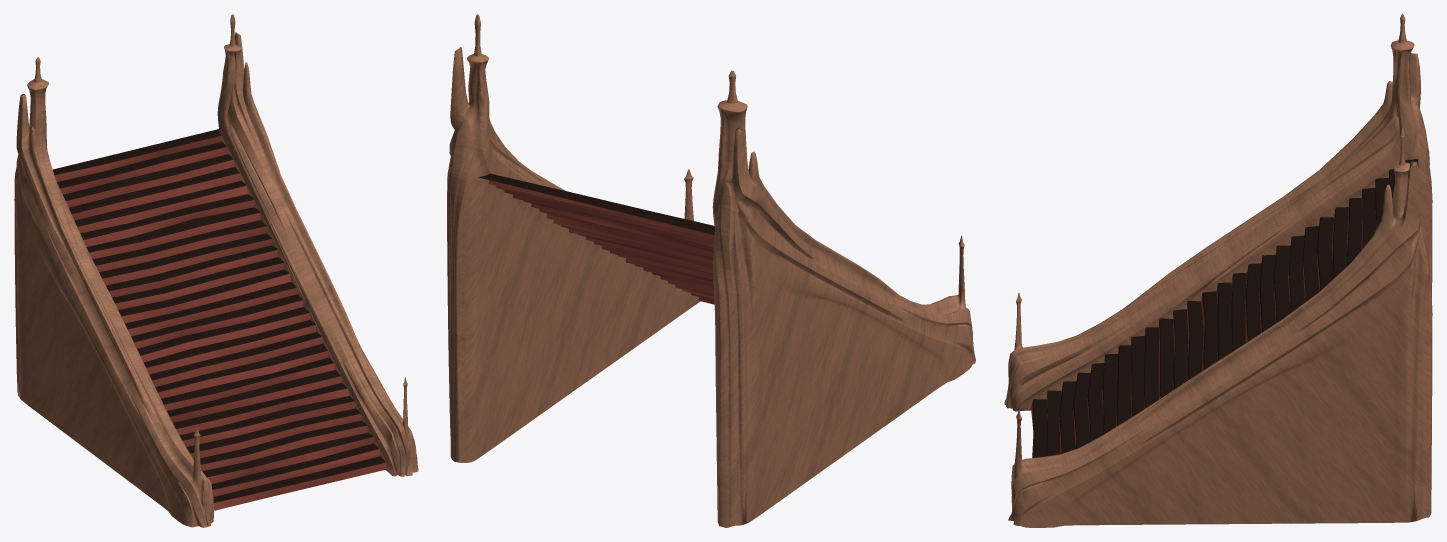
The model's file is Geonosis_StairStraight01.fbx.
3 renders of one model, left to right at view 1: azimuth 30°, elevation 25°; view 2: azimuth 150°, elevation 25°; view 3: azimuth 270°, elevation 25°, orthographic. The views are drawn at different scales.
Visible parts, largest first — view 1: StraightStair002; view 2: StraightStair002; view 3: StraightStair002.
Part boxes in pixels (<box>): StraightStair002: <box>14,14,418,527</box>; StraightStair002: <box>447,14,975,527</box>; StraightStair002: <box>1004,14,1432,527</box>.
Bounding box in the file's own units: 622 × 870 × 856.
